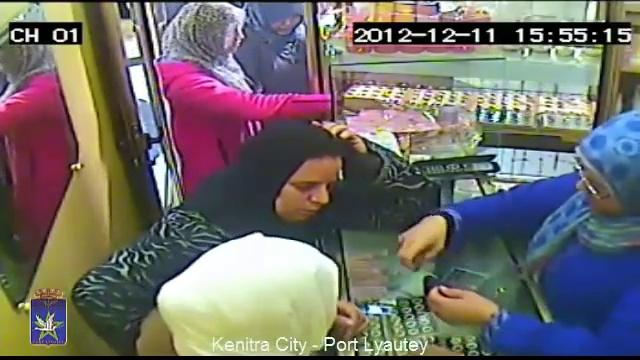Product: (409, 248, 427, 273)
Product-Picked: (411, 112, 640, 360)
Regular: (139, 227, 407, 360), (149, 4, 349, 154), (247, 110, 378, 232), (228, 0, 314, 108)
